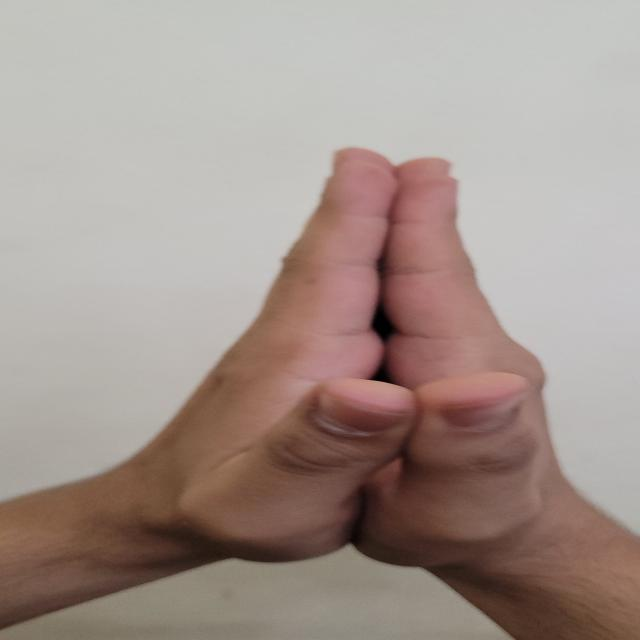Thank You: (117, 118, 640, 640)
